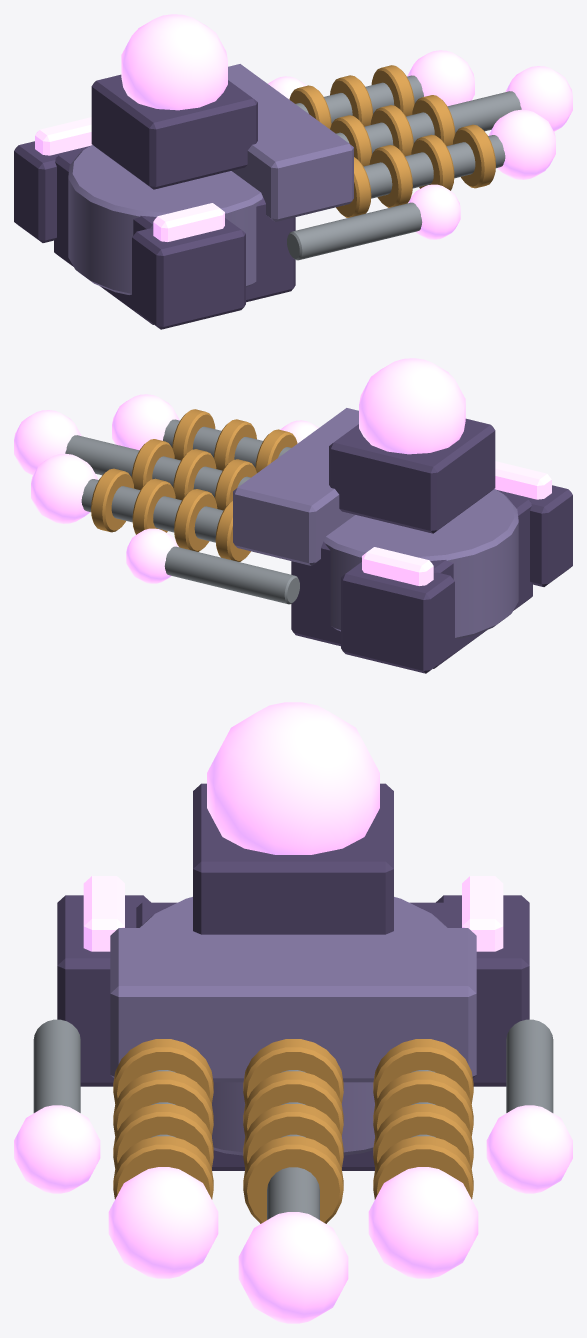
File: arc_turret_l4.glb
3 renders of one model, top to bottom at view 1: azimuth 30°, elevation 25°; view 2: azimuth 150°, elevation 25°; view 3: azimuth 270°, elevation 25°, orthographic. The views are drawn at different scales.
Visible parts, largest first — view 1: Cylinder, Cube.006, Cube.001, Cube.002, Sphere.005, Cube, Cylinder.016, Cube.004, Sphere, Cylinder.006, Sphere.001, Sphere.002 (+16 smaller); view 2: Cylinder, Cube.006, Cube.001, Cube.004, Sphere.005, Cube, Cylinder.017, Cube.002, Sphere.002, Cylinder.006, Sphere.001, Sphere (+16 smaller); view 3: Cube.001, Sphere.005, Cube.006, Sphere.001, Sphere, Sphere.002, Cube.002, Cube.004, Cylinder, Sphere.003, Sphere.004, Cylinder.010 (+17 smaller).
Boxes of the visible parts, box(x1,y1,x2,y2) form: Cylinder: box(68, 145, 262, 294); Cube.006: box(91, 74, 257, 189); Cube.001: box(228, 64, 353, 221); Cube.002: box(132, 218, 245, 329); Sphere.005: box(121, 14, 227, 110); Cube: box(54, 149, 295, 324); Cylinder.016: box(287, 202, 422, 260); Cube.004: box(14, 141, 89, 242); Sphere: box(488, 109, 555, 179); Cylinder.006: box(336, 91, 521, 153); Sphere.001: box(505, 66, 572, 131); Sphere.002: box(407, 50, 474, 106); Cylinder: box(324, 489, 518, 638); Cube.006: box(329, 418, 495, 533); Cube.001: box(233, 408, 358, 565); Cube.004: box(341, 562, 454, 673); Sphere.005: box(359, 358, 465, 454); Cube: box(291, 493, 532, 668); Cylinder.017: box(164, 546, 299, 604); Cube.002: box(497, 485, 572, 586); Sphere.002: box(31, 453, 98, 523); Cylinder.006: box(65, 435, 250, 497); Sphere.001: box(14, 410, 81, 475); Sphere: box(112, 394, 179, 450); Cube.001: box(110, 928, 476, 1082); Sphere.005: box(207, 702, 379, 854); Cube.006: box(193, 783, 393, 934); Sphere.001: box(238, 1212, 348, 1323); Sphere: box(108, 1167, 218, 1278); Sphere.002: box(368, 1167, 478, 1278); Cube.002: box(57, 895, 150, 1086); Cube.004: box(436, 895, 529, 1086); Cylinder: box(139, 897, 447, 1155); Sphere.003: box(14, 1105, 100, 1193); Sphere.004: box(486, 1105, 572, 1193); Cylinder.010: box(243, 1136, 343, 1223).
Size of the model in its own units: 1.52 by 0.76 by 0.9462.
